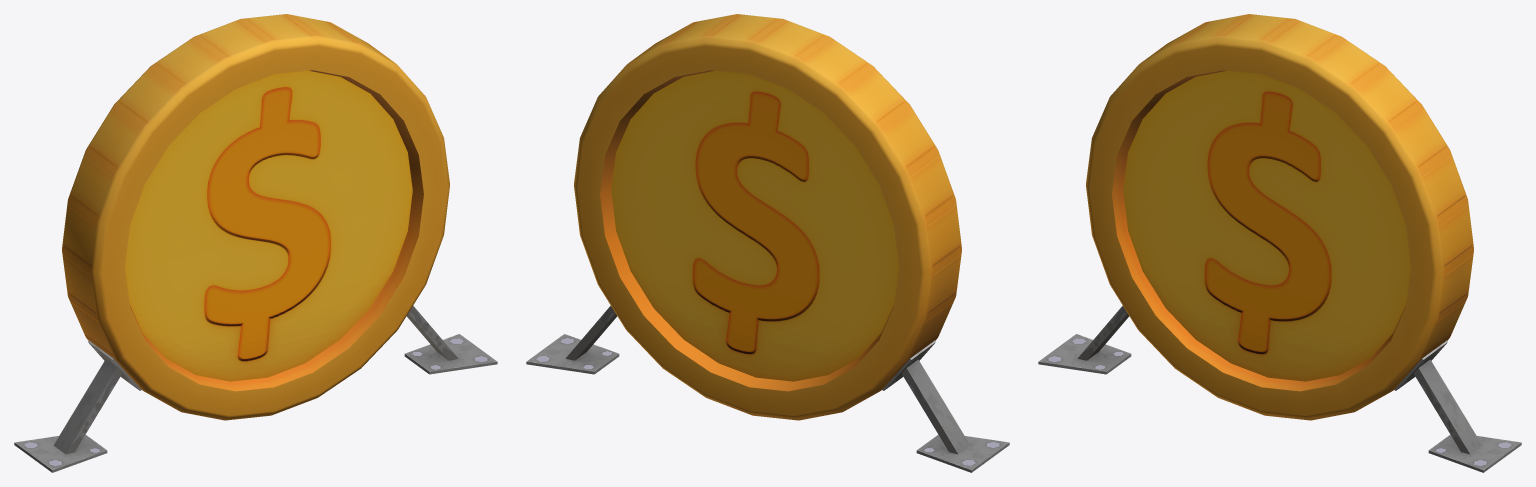
File: SignCoin01_1.FBX
3 renders of one model, left to right at view 1: azimuth 30°, elevation 25°; view 2: azimuth 150°, elevation 25°; view 3: azimuth 330°, elevation 25°, orthographic.
Visible parts, largest first — view 1: SignCoin01_1; view 2: SignCoin01_1; view 3: SignCoin01_1.
Boxes of the visible parts, x1=… form: SignCoin01_1: x1=14, y1=14, x2=497, y2=472; SignCoin01_1: x1=526, y1=14, x2=1009, y2=472; SignCoin01_1: x1=1038, y1=14, x2=1521, y2=472.
Size of what is drawn, in the model's own units: 5 by 4.02 by 0.7392.
